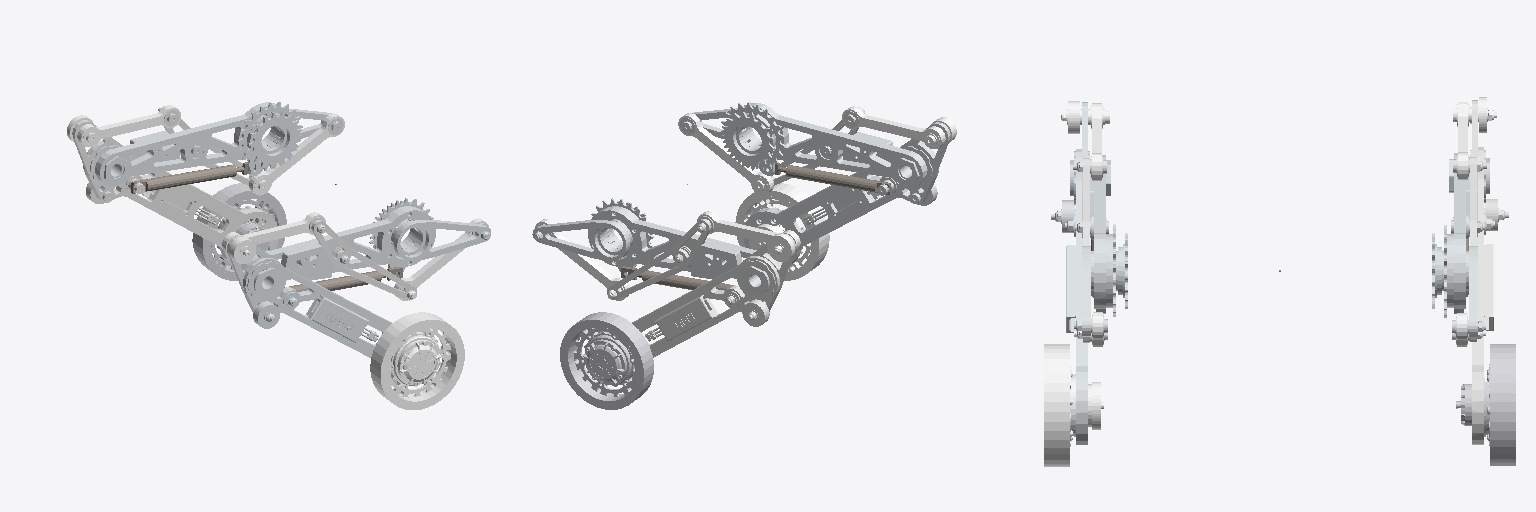
--- Render facts (derived) ---
3 views of the same robot in one strip: view 1: azimuth 30°, elevation 25°; view 2: azimuth 150°, elevation 25°; view 3: azimuth 270°, elevation 25° (orthographic).
Model wheelbipe25_v3 with 20 links and 19 joints (16 continuous, 2 prismatic, 1 fixed), rooted at base_link, posed all joints at 0.
Visible links, largest first — view 1: right_wheel_link, left_rear1_link, right_rear2_link, left_rear2_link, right_rear1_link, left_wheel_link, right_front1_link, left_front1_link, right_front3_link, left_front4_link, right_front4_link, left_front2_link (+4 smaller); view 2: left_wheel_link, right_rear1_link, left_rear2_link, right_rear2_link, left_rear1_link, right_wheel_link, right_front1_link, left_front1_link, left_front3_link, left_front4_link, right_front4_link, right_front2_link (+4 smaller); view 3: right_wheel_link, left_wheel_link, right_rear2_link, left_rear2_link, left_rear1_link, right_rear1_link, left_front1_link, right_front1_link, right_front4_link, left_front4_link, right_front3_link, left_front3_link.
Boxes of the visible links, x1,y1,x2,y2 form: right_wheel_link: (370, 312, 464, 409); left_rear1_link: (95, 102, 302, 186); right_rear2_link: (227, 235, 434, 383); left_rear2_link: (72, 120, 278, 264); right_rear1_link: (241, 198, 435, 296); left_wheel_link: (192, 183, 286, 280); right_front1_link: (370, 201, 490, 260); left_front1_link: (248, 109, 343, 168); right_front3_link: (309, 217, 416, 300); left_front4_link: (67, 105, 180, 146); right_front4_link: (222, 212, 325, 263); left_front2_link: (249, 113, 344, 195); left_wheel_link: (560, 312, 653, 409); right_rear1_link: (721, 102, 927, 187); left_rear2_link: (588, 233, 795, 384); right_rear2_link: (743, 122, 950, 264); left_rear1_link: (588, 198, 781, 294); right_wheel_link: (735, 183, 829, 280); right_front1_link: (680, 108, 774, 168); left_front1_link: (532, 201, 652, 260); left_front3_link: (607, 216, 713, 299); left_front4_link: (697, 211, 800, 261); right_front4_link: (842, 106, 956, 148); right_front2_link: (678, 113, 773, 195); right_wheel_link: (1044, 344, 1103, 466); left_wheel_link: (1456, 344, 1515, 465); right_rear2_link: (1051, 102, 1106, 444); left_rear2_link: (1453, 100, 1508, 444); left_rear1_link: (1444, 153, 1489, 317); right_rear1_link: (1070, 155, 1115, 316); left_front1_link: (1432, 233, 1485, 337); right_front1_link: (1074, 233, 1127, 336); right_front4_link: (1061, 101, 1109, 180); left_front4_link: (1453, 97, 1496, 179); right_front3_link: (1073, 156, 1106, 342); left_front3_link: (1453, 155, 1486, 341).
Bounding box of the posed robot: 0.4455 × 0.4601 × 0.2992 m (x, y, z).
18 mesh visuals loaded from 19 distinct referenced files (18 binary STL); not drawn: 1 (reference not matched to a file when rendering).

URDF robot description (wheelbipe25_v3):
<?xml version="1.0" encoding="utf-8"?>
<!-- This URDF was automatically created by SolidWorks to URDF Exporter! Originally created by Stephen Brawner ([email redacted]) 
     Commit Version: 1.6.0-4-g7f85cfe  Build Version: 1.6.7995.38578
     For more information, please see http://wiki.ros.org/sw_urdf_exporter -->
<robot
  name="wheelbipe25_v3">
  <link
    name="base_link">
    <inertial>
      <origin
        xyz="0.00340359352606569 0.00544410342816526 0.0269189951651401"
        rpy="0 0 0" />
      <mass
        value="13.642818185416" />
      <inertia
        ixx="0.0174056039292706"
        ixy="-3.21842783460477E-05"
        ixz="9.97745704757388E-05"
        iyy="0.023836997475382"
        iyz="-3.64992354052062E-05"
        izz="0.0274249881184724" />
    </inertial>
    <visual>
      <origin
        xyz="0 0 0"
        rpy="0 0 0" />
      <geometry>
        <mesh
          filename="../meshes/base_link.STL" />
      </geometry>
      <material
        name="meshes">
        <color
          rgba="0.898039215686275 0.917647058823529 0.929411764705882 1" />
      </material>
    </visual>
    <collision>
      <origin
        xyz="0 0 0"
        rpy="0 0 0" />
      <geometry>
        <mesh
          filename="../meshes/base_link.STL" />
      </geometry>
    </collision>
  </link>
  <joint name="imu_joint" type="fixed">
    <parent link="base_link"/>
    <child link="imu_link"/>
    <origin rpy="0 0 0" xyz="0 0 0"/>
  </joint>
  <link name="imu_link">
    <inertial>
      <mass value="0.001"/>
      <origin rpy="0 0 0" xyz="0 0 0"/>
      <inertia ixx="0.0001" ixy="0" ixz="0" iyy="0.0001" iyz="0" izz="0.0001"/>
    </inertial>
    <visual>
      <origin rpy="0 0 0" xyz="0 0 0"/>
      <geometry>
        <box size="0.001 0.001 0.001"/>
      </geometry>
      <material name="red"/>
    </visual>
    <collision>
      <origin rpy="0 0 0" xyz="0 0 0"/>
      <geometry>
        <box size=".001 .001 .001"/>
      </geometry>
    </collision>
  </link>
  <link
    name="right_rear1_link">
    <inertial>
      <origin
        xyz="-0.106332358569984 0.00449073612655329 0.000587428254207156"
        rpy="0 0 0" />
      <mass
        value="0.440861538976495" />
      <inertia
        ixx="0.00013606702501468"
        ixy="-1.8284202125824E-06"
        ixz="3.9850306052404E-05"
        iyy="0.00157904378159859"
        iyz="6.78386550844151E-07"
        izz="0.00146970958664005" />
    </inertial>
    <visual>
      <origin
        xyz="0 0 0"
        rpy="0 0 0" />
      <geometry>
        <mesh
          filename="../meshes/right_rear1_link.STL" />
      </geometry>
      <material
        name="meshes">
        <color
          rgba="0.898039215686275 0.917647058823529 0.929411764705882 1" />
      </material>
    </visual>
    <collision>
      <origin
        xyz="0 0 0"
        rpy="0 0 0" />
      <geometry>
        <mesh
          filename="../meshes/right_rear1_link.STL" />
      </geometry>
    </collision>
  </link>
  <joint
    name="right_rear1_joint"
    type="continuous">
    <origin
      xyz="0 -0.1815 0"
      rpy="0 0 0" />
    <parent
      link="base_link" />
    <child
      link="right_rear1_link" />
    <axis
      xyz="0 1 0" />
    <limit
      lower="-3.14"
      upper="3.14"
      effort="40"
      velocity="10.472" />
  </joint>
  <link
    name="right_rear2_link">
    <inertial>
      <origin
        xyz="0.0642268507801293 0.00518674751094153 -0.0521521835644689"
        rpy="0 0 0" />
      <mass
        value="0.381557007083252" />
      <inertia
        ixx="0.000744516229080435"
        ixy="2.042352636913E-06"
        ixz="0.000873915415294323"
        iyy="0.00203919642384879"
        iyz="-2.27059882901144E-06"
        izz="0.0013106066220331" />
    </inertial>
    <visual>
      <origin
        xyz="0 0 0"
        rpy="0 0 0" />
      <geometry>
        <mesh
          filename="../meshes/right_rear2_link.STL" />
      </geometry>
      <material
        name="meshes">
        <color
          rgba="0.898039215686275 0.917647058823529 0.929411764705882 1" />
      </material>
    </visual>
    <collision>
      <origin
        xyz="0 0 0"
        rpy="0 0 0" />
      <geometry>
        <mesh
          filename="../meshes/right_rear2_link.STL" />
      </geometry>
    </collision>
  </link>
  <joint
    name="right_rear2_joint"
    type="continuous">
    <origin
      xyz="-0.215 -0.018 0"
      rpy="0 0 0" />
    <parent
      link="right_rear1_link" />
    <child
      link="right_rear2_link" />
    <axis
      xyz="0 1 0" />
    <limit
      lower="-0.05"
      upper="1.05"
      effort="0"
      velocity="0" />
  </joint>
  <link
    name="right_wheel_link">
    <inertial>
      <origin
        xyz="0.000103763358342951 -0.0128472471862931 -1.11657618750566E-05"
        rpy="0 0 0" />
      <mass
        value="0.309754714549739" />
      <inertia
        ixx="0.000310431420126189"
        ixy="-2.36933762728286E-07"
        ixz="-1.47747496489338E-07"
        iyy="0.00057172389890395"
        iyz="4.7596223853375E-08"
        izz="0.000309708769125021" />
    </inertial>
    <visual>
      <origin
        xyz="0 0 0"
        rpy="0 0 0" />
      <geometry>
        <mesh
          filename="../meshes/right_wheel_link.STL" />
      </geometry>
      <material
        name="meshes">
        <color
          rgba="1 1 1 1" />
      </material>
    </visual>
    <collision>
      <origin
        xyz="0 0 0"
        rpy="0 0 0" />
      <geometry>
        <mesh
          filename="../meshes/right_wheel_link.STL" />
      </geometry>
    </collision>
  </link>
  <joint
    name="right_wheel_joint"
    type="continuous">
    <origin
      xyz="0.20521 0 -0.14968"
      rpy="0 0 0" />
    <parent
      link="right_rear2_link" />
    <child
      link="right_wheel_link" />
    <axis
      xyz="0 1 0" />
    <limit
      effort="5"
      velocity="52.229" />
  </joint>
  <link
    name="right_spring1_link">
    <inertial>
      <origin
        xyz="-0.0294645293001155 0.0025 0.0017737804881159"
        rpy="0 0 0" />
      <mass
        value="0.0264765722384668" />
      <inertia
        ixx="3.73042912258168E-07"
        ixy="-7.78184845443174E-21"
        ixz="1.15998829584693E-06"
        iyy="1.98301528921308E-05"
        iyz="2.83539057153373E-22"
        izz="1.95719476609792E-05" />
    </inertial>
    <visual>
      <origin
        xyz="0 0 0"
        rpy="0 0 0" />
      <geometry>
        <mesh
          filename="../meshes/right_spring1_link.STL" />
      </geometry>
      <material
        name="meshes">
        <color
          rgba="0.647058823529412 0.619607843137255 0.588235294117647 1" />
      </material>
    </visual>
    <collision>
      <origin
        xyz="0 0 0"
        rpy="0 0 0" />
      <geometry>
        <mesh
          filename="../meshes/right_spring1_link.STL" />
      </geometry>
    </collision>
  </link>
  <joint
    name="right_spring1_joint"
    type="continuous">
    <origin
      xyz="-0.016246 0.0015 -0.044635"
      rpy="0 0 0" />
    <parent
      link="right_rear1_link" />
    <child
      link="right_spring1_link" />
    <axis
      xyz="0 1 0" />
  </joint>
  <link
    name="right_spring2_link">
    <inertial>
      <origin
        xyz="0.0676630147353404 0.0025 -0.00407334982623243"
        rpy="0 0 0" />
      <mass
        value="0.169063782501005" />
      <inertia
        ixx="5.99507138113474E-06"
        ixy="-1.22808725182486E-19"
        ixz="1.51638553727519E-05"
        iyy="0.00025804685168709"
        iyz="7.6320554892647E-21"
        izz="0.000256971237233124" />
    </inertial>
    <visual>
      <origin
        xyz="0 0 0"
        rpy="0 0 0" />
      <geometry>
        <mesh
          filename="../meshes/right_spring2_link.STL" />
      </geometry>
      <material
        name="meshes">
        <color
          rgba="0.650980392156863 0.619607843137255 0.588235294117647 1" />
      </material>
    </visual>
    <collision>
      <origin
        xyz="0 0 0"
        rpy="0 0 0" />
      <geometry>
        <mesh
          filename="../meshes/right_spring2_link.STL" />
      </geometry>
    </collision>
  </link>
  <joint
    name="right_spring2_joint"
    type="prismatic">
    <origin
      xyz="-0.16288 0 0.0098055"
      rpy="0 0 0" />
    <parent
      link="right_spring1_link" />
    <child
      link="right_spring2_link" />
    <axis
      xyz="-1 0 0" />
    <limit
      lower="-0.01"
      upper="0.05"
      effort="500"
      velocity="100" />
  </joint>
  <link
    name="right_front1_link">
    <inertial>
      <origin
        xyz="0.0412214164672867 0.00526416541873331 -0.00541452063541568"
        rpy="0 0 0" />
      <mass
        value="0.158566622455458" />
      <inertia
        ixx="3.59662125121199E-05"
        ixy="7.35881840664363E-06"
        ixz="1.15051080090401E-05"
        iyy="0.000145592994546552"
        iyz="-9.6659658062448E-07"
        izz="0.000122044800359485" />
    </inertial>
    <visual>
      <origin
        xyz="0 0 0"
        rpy="0 0 0" />
      <geometry>
        <mesh
          filename="../meshes/right_front1_link.STL" />
      </geometry>
      <material
        name="meshes">
        <color
          rgba="0.898039215686275 0.917647058823529 0.929411764705882 1" />
      </material>
    </visual>
    <collision>
      <origin
        xyz="0 0 0"
        rpy="0 0 0" />
      <geometry>
        <mesh
          filename="../meshes/right_front1_link.STL" />
      </geometry>
    </collision>
  </link>
  <joint
    name="right_front1_joint"
    type="continuous">
    <origin
      xyz="0 -0.1815 0"
      rpy="0 0 0" />
    <parent
      link="base_link" />
    <child
      link="right_front1_link" />
    <axis
      xyz="0 1 0" />
    <limit
      lower="-3.14"
      upper="3.14"
      effort="40"
      velocity="10.472" />
  </joint>
  <link
    name="right_front2_link">
    <inertial>
      <origin
        xyz="-0.0813422395973172 0.00347412051664198 -0.0443929463083545"
        rpy="0 0 0" />
      <mass
        value="0.0775761416934638" />
      <inertia
        ixx="1.60079474041075E-05"
        ixy="9.40095462067343E-15"
        ixz="-2.29598153182322E-05"
        iyy="5.84308288455894E-05"
        iyz="-1.07160847594498E-13"
        izz="4.55473187407319E-05" />
    </inertial>
    <visual>
      <origin
        xyz="0 0 0"
        rpy="0 0 0" />
      <geometry>
        <mesh
          filename="../meshes/right_front2_link.STL" />
      </geometry>
      <material
        name="meshes">
        <color
          rgba="1 1 1 1" />
      </material>
    </visual>
    <collision>
      <origin
        xyz="0 0 0"
        rpy="0 0 0" />
      <geometry>
        <mesh
          filename="../meshes/right_front2_link.STL" />
      </geometry>
    </collision>
  </link>
  <joint
    name="right_front2_joint"
    type="continuous">
    <origin
      xyz="0.099148 -0.001 -0.013023"
      rpy="0 0 0" />
    <parent
      link="right_front1_link" />
    <child
      link="right_front2_link" />
    <axis
      xyz="0 1 0" />
  </joint>
  <link
    name="right_front3_link">
    <inertial>
      <origin
        xyz="-0.105759944216437 0.00183490021518362 0.0940440558135617"
        rpy="0 0 0" />
      <mass
        value="0.0713540334222572" />
      <inertia
        ixx="3.97971656854684E-05"
        ixy="9.40096754439794E-15"
        ixz="3.96471620127536E-05"
        iyy="8.73999836583645E-05"
        iyz="-1.07160840699134E-13"
        izz="5.03499733213878E-05" />
    </inertial>
    <visual>
      <origin
        xyz="0 0 0"
        rpy="0 0 0" />
      <geometry>
        <mesh
          filename="../meshes/right_front3_link.STL" />
      </geometry>
      <material
        name="meshes">
        <color
          rgba="0.929411764705882 0.929411764705882 0.929411764705882 1" />
      </material>
    </visual>
    <collision>
      <origin
        xyz="0 0 0"
        rpy="0 0 0" />
      <geometry>
        <mesh
          filename="../meshes/right_front3_link.STL" />
      </geometry>
    </collision>
  </link>
  <joint
    name="right_front3_joint"
    type="continuous">
    <origin
      xyz="-0.1037 -0.0035 -0.056595"
      rpy="0 0 0" />
    <parent
      link="right_front2_link" />
    <child
      link="right_front3_link" />
    <axis
      xyz="0 1 0" />
  </joint>
  <link
    name="right_front4_link">
    <inertial>
      <origin
        xyz="-0.0946988392922457 0.000640105753304421 -1.49555534623147E-10"
        rpy="0 0 0" />
      <mass
        value="0.0926140523581305" />
      <inertia
        ixx="4.14151873886855E-06"
        ixy="-1.66426312139228E-14"
        ixz="-1.01735666574459E-14"
        iyy="5.674375982867E-05"
        iyz="2.69447516469024E-14"
        izz="5.51404098089876E-05" />
    </inertial>
    <visual>
      <origin
        xyz="0 0 0"
        rpy="0 0 0" />
      <geometry>
        <mesh
          filename="../meshes/right_front4_link.STL" />
      </geometry>
      <material
        name="meshes">
        <color
          rgba="1 1 1 1" />
      </material>
    </visual>
    <collision>
      <origin
        xyz="0 0 0"
        rpy="0 0 0" />
      <geometry>
        <mesh
          filename="../meshes/right_front4_link.STL" />
      </geometry>
    </collision>
  </link>
  <joint
    name="right_front4_joint"
    type="continuous">
    <origin
      xyz="-0.12891 0.0025 0.11942"
      rpy="0 0 0" />
    <parent
      link="right_front3_link" />
    <child
      link="right_front4_link" />
    <axis
      xyz="0 1 0" />
  </joint>
  <link
    name="left_rear1_link">
    <inertial>
      <origin
        xyz="-0.118948769058949 -0.00260857280121057 0.00163702474903349"
        rpy="0 0 0" />
      <mass
        value="0.503387901240631" />
      <inertia
        ixx="0.000147162398519791"
        ixy="1.83126777043379E-06"
        ixz="5.29091329257096E-05"
        iyy="0.0016093537379729"
        iyz="-7.00729956634733E-07"
        izz="0.00148939244123742" />
    </inertial>
    <visual>
      <origin
        xyz="0 0 0"
        rpy="0 0 0" />
      <geometry>
        <mesh
          filename="../meshes/left_rear1_link.STL" />
      </geometry>
      <material
        name="meshes">
        <color
          rgba="0.898039215686275 0.917647058823529 0.929411764705882 1" />
      </material>
    </visual>
    <collision>
      <origin
        xyz="0 0 0"
        rpy="0 0 0" />
      <geometry>
        <mesh
          filename="../meshes/left_rear1_link.STL" />
      </geometry>
    </collision>
  </link>
  <joint
    name="left_rear1_joint"
    type="continuous">
    <origin
      xyz="0 0.1815 0"
      rpy="0 0 0" />
    <parent
      link="base_link" />
    <child
      link="left_rear1_link" />
    <axis
      xyz="0 1 0" />
    <limit
      lower="-3.14"
      upper="3.14"
      effort="40"
      velocity="10.472" />
  </joint>
  <link
    name="left_rear2_link">
    <inertial>
      <origin
        xyz="0.0752964962515773 -0.00508552396611539 -0.0625022413346753"
        rpy="0 0 0" />
      <mass
        value="0.321594874096321" />
      <inertia
        ixx="0.00075936477364391"
        ixy="-2.05835508235229E-06"
        ixz="0.000881083293573335"
        iyy="0.00201710952142879"
        iyz="2.21626276459664E-06"
        izz="0.00127317303702608" />
    </inertial>
    <visual>
      <origin
        xyz="0 0 0"
        rpy="0 0 0" />
      <geometry>
        <mesh
          filename="../meshes/left_rear2_link.STL" />
      </geometry>
      <material
        name="meshes">
        <color
          rgba="0.929411764705882 0.929411764705882 0.929411764705882 1" />
      </material>
    </visual>
    <collision>
      <origin
        xyz="0 0 0"
        rpy="0 0 0" />
      <geometry>
        <mesh
          filename="../meshes/left_rear2_link.STL" />
      </geometry>
    </collision>
  </link>
  <joint
    name="left_rear2_joint"
    type="continuous">
    <origin
      xyz="-0.21499 0.018 0.0020187"
      rpy="0 0 0" />
    <parent
      link="left_rear1_link" />
    <child
      link="left_rear2_link" />
    <axis
      xyz="0 1 0" />
    <limit
      lower="-0.05"
      upper="1.05"
      effort="0"
      velocity="0" />
  </joint>
  <link
    name="left_wheel_link">
    <inertial>
      <origin
        xyz="4.22089411891216E-05 0.0135008983401501 -9.7584810842502E-05"
        rpy="0 0 0" />
      <mass
        value="0.304045453491577" />
      <inertia
        ixx="0.000308747772933294"
        ixy="1.15710098261867E-07"
        ixz="-3.26407419579601E-07"
        iyy="0.000569584610748815"
        iyz="-2.12165466529916E-07"
        izz="0.000309175994814473" />
    </inertial>
    <visual>
      <origin
        xyz="0 0 0"
        rpy="0 0 0" />
      <geometry>
        <mesh
          filename="../meshes/left_wheel_link.STL" />
      </geometry>
      <material
        name="meshes">
        <color
          rgba="0.866666666666667 0.866666666666667 0.890196078431372 1" />
      </material>
    </visual>
    <collision>
      <origin
        xyz="0 0 0"
        rpy="0 0 0" />
      <geometry>
        <mesh
          filename="../meshes/left_wheel_link.STL" />
      </geometry>
    </collision>
  </link>
  <joint
    name="left_wheel_joint"
    type="continuous">
    <origin
      xyz="0.2038 0 -0.1516"
      rpy="0 0 0" />
    <parent
      link="left_rear2_link" />
    <child
      link="left_wheel_link" />
    <axis
      xyz="0 1 0" />
    <limit
      effort="5"
      velocity="52.229" />
  </joint>
  <link
    name="left_spring1_link">
    <inertial>
      <origin
        xyz="-0.0294465893817411 -0.00250000722416935 0.00205035885886693"
        rpy="0 0 0" />
      <mass
        value="0.0264765722384668" />
      <inertia
        ixx="3.96517919883806E-07"
        ixy="-4.45872158277883E-20"
        ixz="1.34004335970855E-06"
        iyy="1.98301528921308E-05"
        iyz="2.93152297205393E-21"
        izz="1.95484726533535E-05" />
    </inertial>
    <visual>
      <origin
        xyz="0 0 0"
        rpy="0 0 0" />
      <geometry>
        <mesh
          filename="../meshes/left_spring1_link.STL" />
      </geometry>
      <material
        name="meshes">
        <color
          rgba="0.647058823529412 0.619607843137255 0.588235294117647 1" />
      </material>
    </visual>
    <collision>
      <origin
        xyz="0 0 0"
        rpy="0 0 0" />
      <geometry>
        <mesh
          filename="../meshes/left_spring1_link.STL" />
      </geometry>
    </collision>
  </link>
  <joint
    name="left_spring1_joint"
    type="continuous">
    <origin
      xyz="-0.016664 -0.0015 -0.044481"
      rpy="0 0 0" />
    <parent
      link="left_rear1_link" />
    <child
      link="left_spring1_link" />
    <axis
      xyz="0 1 0" />
  </joint>
  <link
    name="left_spring2_link">
    <inertial>
      <origin
        xyz="0.067785504817282 -0.0024999889334065 -5.54023917020974E-10"
        rpy="0 0 0" />
      <mass
        value="0.169063782501005" />
      <inertia
        ixx="5.08219914378007E-06"
        ixy="1.10609486696088E-20"
        ixz="1.93229391092387E-21"
        iyy="0.00025804685168709"
        iyz="-2.00343999469291E-21"
        izz="0.000257884109470477" />
    </inertial>
    <visual>
      <origin
        xyz="0 0 0"
        rpy="0 0 0" />
      <geometry>
        <mesh
          filename="../meshes/left_spring2_link.STL" />
      </geometry>
      <material
        name="meshes">
        <color
          rgba="0.650980392156863 0.619607843137255 0.588235294117647 1" />
      </material>
    </visual>
    <collision>
      <origin
        xyz="0 0 0"
        rpy="0 0 0" />
      <geometry>
        <mesh
          filename="../meshes/left_spring2_link.STL" />
      </geometry>
    </collision>
  </link>
  <joint
    name="left_spring2_joint"
    type="prismatic">
    <origin
      xyz="-0.16278 0 0.011334"
      rpy="0 0.069518 0" />
    <parent
      link="left_spring1_link" />
    <child
      link="left_spring2_link" />
    <axis
      xyz="-1 0 0" />
    <limit
      lower="-0.01"
      upper="0.05"
      effort="500"
      velocity="100" />
  </joint>
  <link
    name="left_front1_link">
    <inertial>
      <origin
        xyz="0.0411687599777338 -0.00526416541872796 -0.00580132923135858"
        rpy="0 0 0" />
      <mass
        value="0.158566622455458" />
      <inertia
        ixx="3.61898455495948E-05"
        ixy="-7.34941813865283E-06"
        ixz="1.23112759157249E-05"
        iyy="0.000145592994546552"
        iyz="1.03564937080588E-06"
        izz="0.000121821167322011" />
    </inertial>
    <visual>
      <origin
        xyz="0 0 0"
        rpy="0 0 0" />
      <geometry>
        <mesh
          filename="../meshes/left_front1_link.STL" />
      </geometry>
      <material
        name="meshes">
        <color
          rgba="0.898039215686275 0.917647058823529 0.929411764705882 1" />
      </material>
    </visual>
    <collision>
      <origin
        xyz="0 0 0"
        rpy="0 0 0" />
      <geometry>
        <mesh
          filename="../meshes/left_front1_link.STL" />
      </geometry>
    </collision>
  </link>
  <joint
    name="left_front1_joint"
    type="continuous">
    <origin
      xyz="0 0.1815 0"
      rpy="0 0 0" />
    <parent
      link="base_link" />
    <child
      link="left_front1_link" />
    <axis
      xyz="0 1 0" />
    <limit
      lower="-3.14"
      upper="3.14"
      effort="40"
      velocity="10.472" />
  </joint>
  <link
    name="left_front2_link">
    <inertial>
      <origin
        xyz="-0.081755477456884 -0.00347410873439916 -0.0436272288920777"
        rpy="0 0 0" />
      <mass
        value="0.0775761416934639" />
      <inertia
        ixx="1.55794095880437E-05"
        ixy="4.72712534425565E-14"
        ixz="-2.26784203062949E-05"
        iyy="5.84308288455895E-05"
        iyz="9.66294581299917E-14"
        izz="4.59758565567957E-05" />
    </inertial>
    <visual>
      <origin
        xyz="0 0 0"
        rpy="0 0 0" />
      <geometry>
        <mesh
          filename="../meshes/left_front2_link.STL" />
      </geometry>
      <material
        name="meshes">
        <color
          rgba="1 1 1 1" />
      </material>
    </visual>
    <collision>
      <origin
        xyz="0 0 0"
        rpy="0 0 0" />
      <geometry>
        <mesh
          filename="../meshes/left_front2_link.STL" />
      </geometry>
    </collision>
  </link>
  <joint
    name="left_front2_joint"
    type="continuous">
    <origin
      xyz="0.099022 0.00099999 -0.013954"
      rpy="0 0 0" />
    <parent
      link="left_front1_link" />
    <child
      link="left_front2_link" />
    <axis
      xyz="0 1 0" />
  </joint>
  <link
    name="left_front3_link">
    <inertial>
      <origin
        xyz="-0.104872258258937 -0.00183488575643745 0.0950329400057966"
        rpy="0 0 0" />
      <mass
        value="0.0713540334222571" />
      <inertia
        ixx="4.05425949155206E-05"
        ixy="1.04566503495745E-14"
        ixz="3.97392520351874E-05"
        iyy="8.73999836583644E-05"
        iyz="1.07063049883019E-13"
        izz="4.96045440913356E-05" />
    </inertial>
    <visual>
      <origin
        xyz="0 0 0"
        rpy="0 0 0" />
      <geometry>
        <mesh
          filename="../meshes/left_front3_link.STL" />
      </geometry>
      <material
        name="meshes">
        <color
          rgba="0.929411764705882 0.929411764705882 0.929411764705882 1" />
      </material>
    </visual>
    <collision>
      <origin
        xyz="0 0 0"
        rpy="0 0 0" />
      <geometry>
        <mesh
          filename="../meshes/left_front3_link.STL" />
      </geometry>
    </collision>
  </link>
  <joint
    name="left_front3_joint"
    type="continuous">
    <origin
      xyz="-0.10423 0.0035 -0.055619"
      rpy="0 0 0" />
    <parent
      link="left_front2_link" />
    <child
      link="left_front3_link" />
    <axis
      xyz="0 1 0" />
  </joint>
  <link
    name="left_front4_link">
    <inertial>
      <origin
        xyz="-0.0947885855356131 0.000204729635847611 0.000890054219375186"
        rpy="0 0 0" />
      <mass
        value="0.0930445183155941" />
      <inertia
        ixx="5.84194182755248E-06"
        ixy="9.10809909960173E-15"
        ixz="4.78831399165482E-07"
        iyy="5.65362613739766E-05"
        iyz="1.07186136579509E-13"
        izz="5.68318403505665E-05" />
    </inertial>
    <visual>
      <origin
        xyz="0 0 0"
        rpy="0 0 0" />
      <geometry>
        <mesh
          filename="../meshes/left_front4_link.STL" />
      </geometry>
      <material
        name="">
        <color
          rgba="1 1 1 1" />
      </material>
    </visual>
    <collision>
      <origin
        xyz="0 0 0"
        rpy="0 0 0" />
      <geometry>
        <mesh
          filename="../meshes/left_front4_link.STL" />
      </geometry>
    </collision>
  </link>
  <joint
    name="left_front4_joint"
    type="continuous">
    <origin
      xyz="-0.12778 -0.0025 0.12063"
      rpy="0 0 0" />
    <parent
      link="left_front3_link" />
    <child
      link="left_front4_link" />
    <axis
      xyz="0 1 0" />
  </joint>
</robot>
